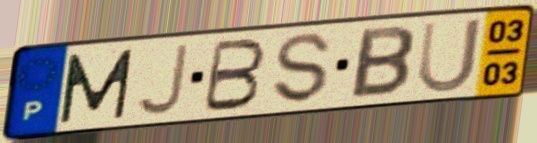B: (346, 24, 418, 102), (199, 36, 269, 115)
J: (132, 41, 192, 118)
M: (57, 46, 137, 126)
S: (272, 31, 335, 106)
U: (414, 15, 484, 96)
